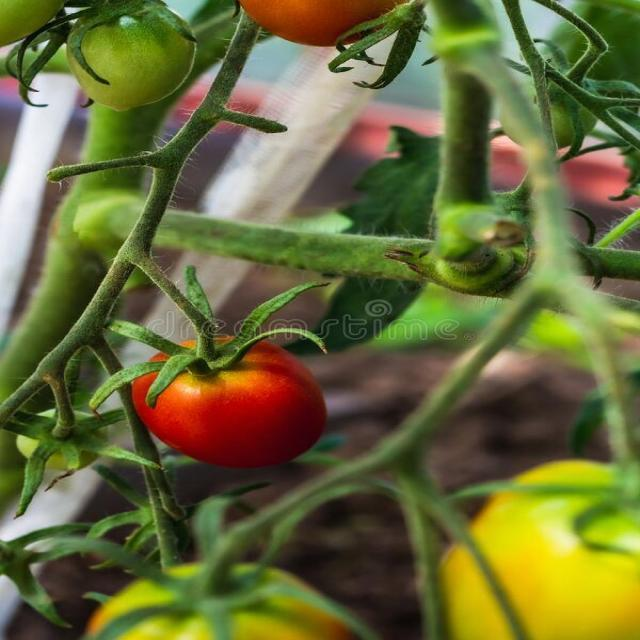kirmizi: (130, 340, 350, 480)
